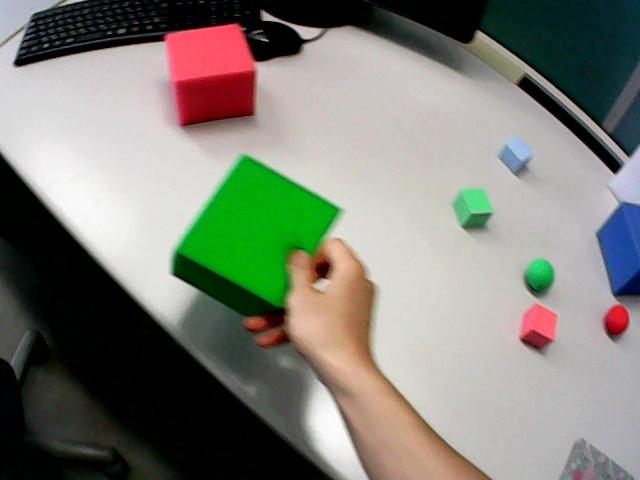blue_block: (597, 203, 639, 294), (499, 137, 534, 174)
red_block: (165, 24, 255, 124), (520, 304, 557, 348)
